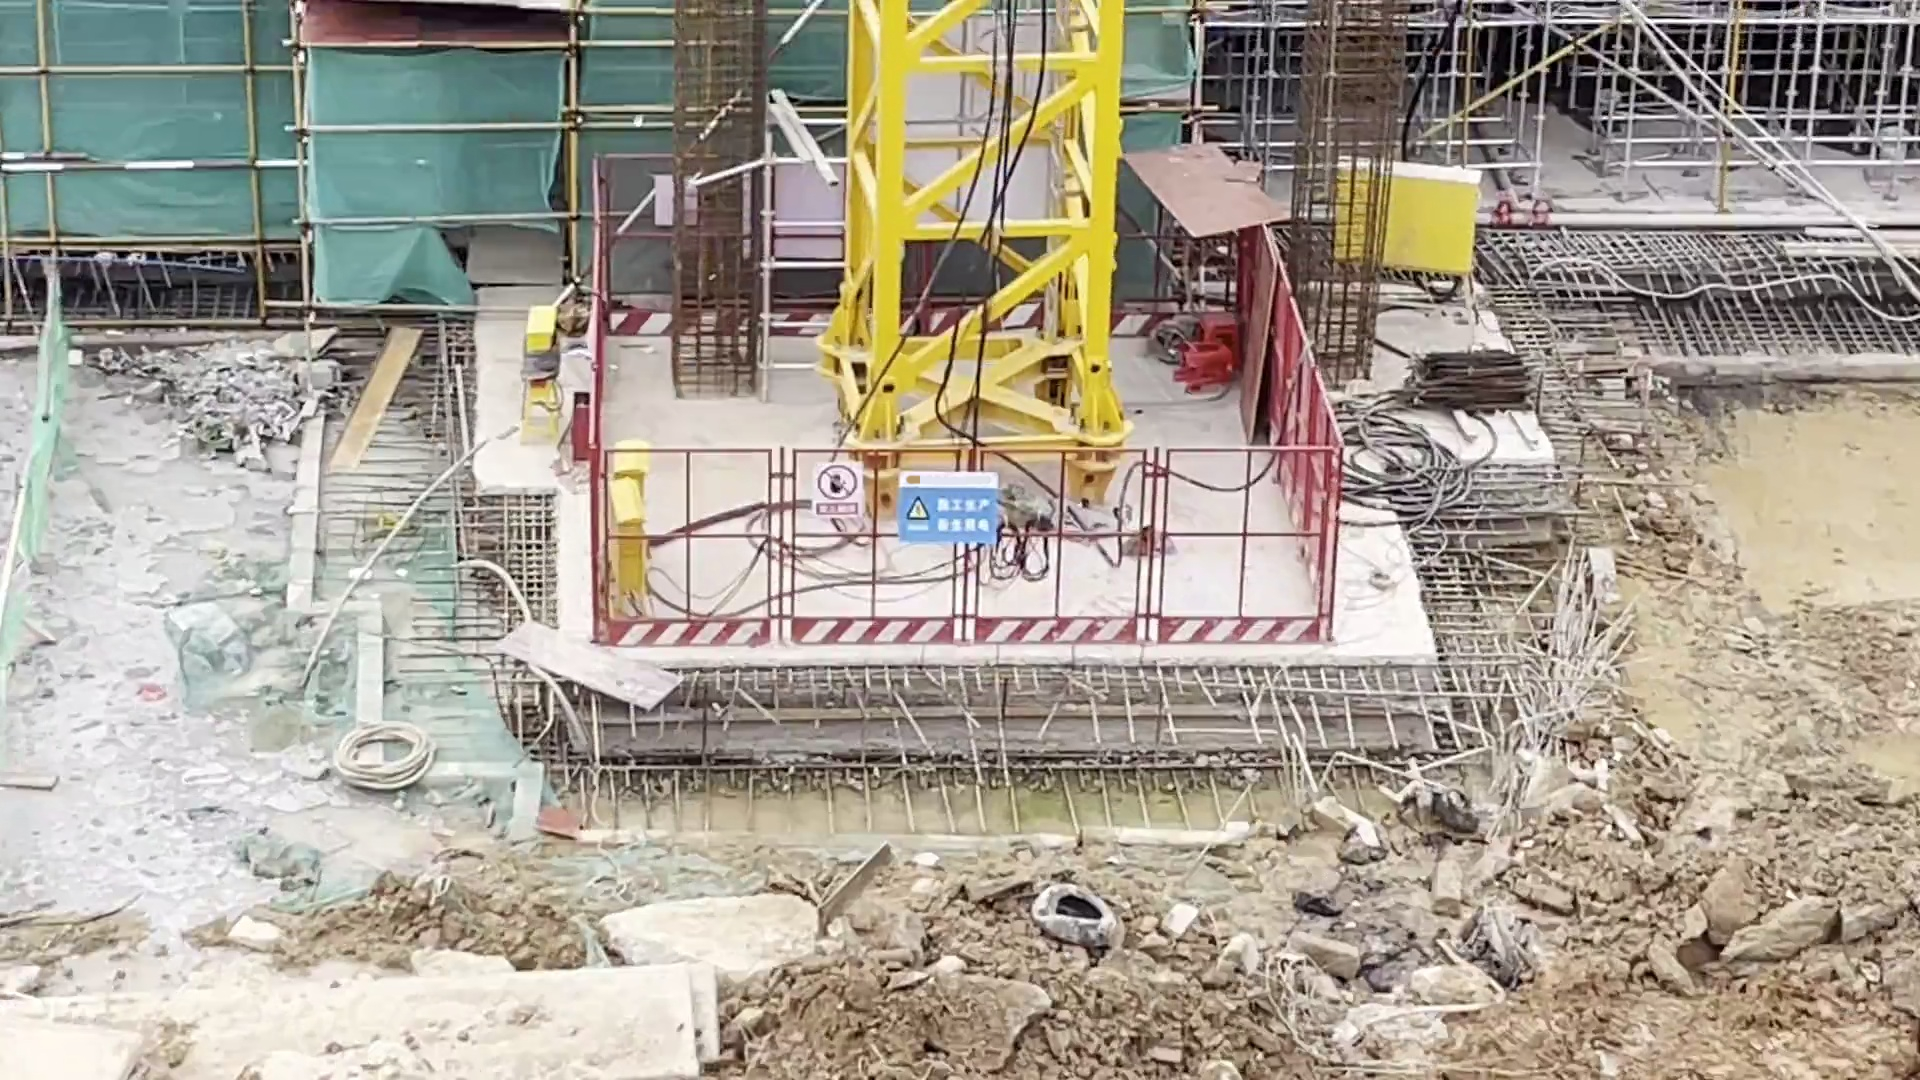ebox: (1327, 156, 1476, 277), (608, 448, 649, 615), (522, 313, 568, 431)
fence: (601, 446, 1327, 640), (1269, 281, 1338, 593)
slogan: (897, 473, 990, 538), (818, 469, 862, 518)
